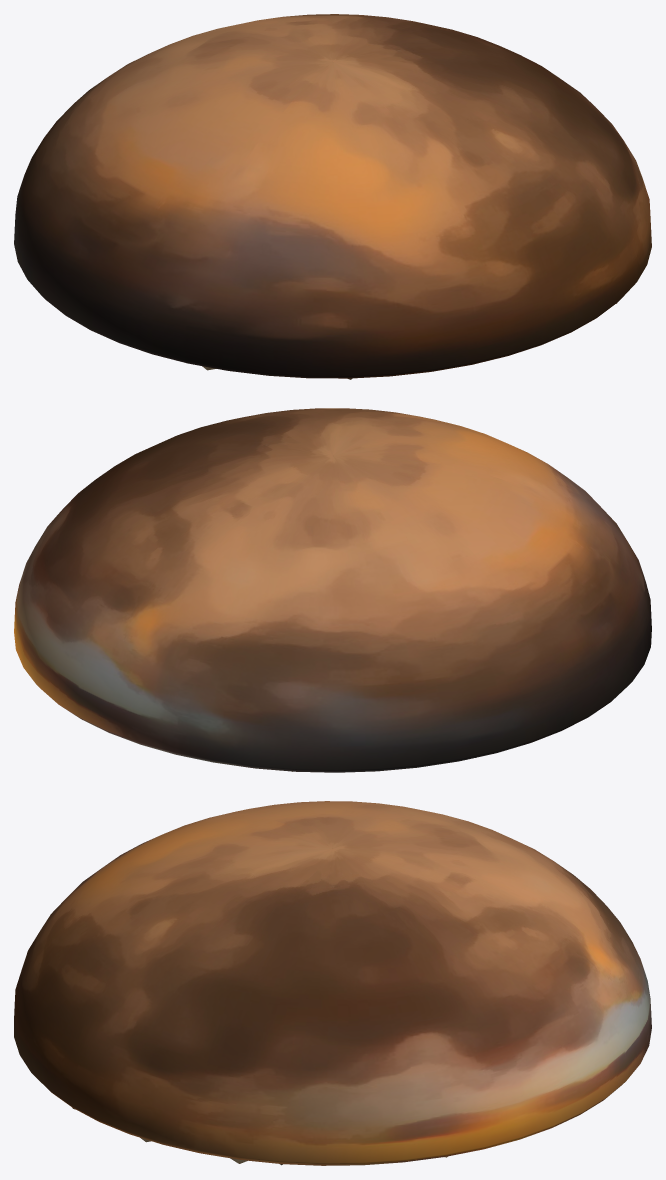
The model's file is skybox_mdl.FBX.
The picture shows the model from 3 angles, top to bottom: view 1: azimuth 30°, elevation 25°; view 2: azimuth 150°, elevation 25°; view 3: azimuth 270°, elevation 25°; orthographic projection.
Parts seen in each view (by area): view 1: skybox_mdl; view 2: skybox_mdl; view 3: skybox_mdl.
Part boxes in pixels (left/top/right/bottom): skybox_mdl: left=14, top=14, right=651, bottom=378; skybox_mdl: left=14, top=408, right=651, bottom=772; skybox_mdl: left=14, top=801, right=651, bottom=1165.
Bounding box in the file's own units: 192194 × 66538 × 192087.
2 materials, 2 textured.
